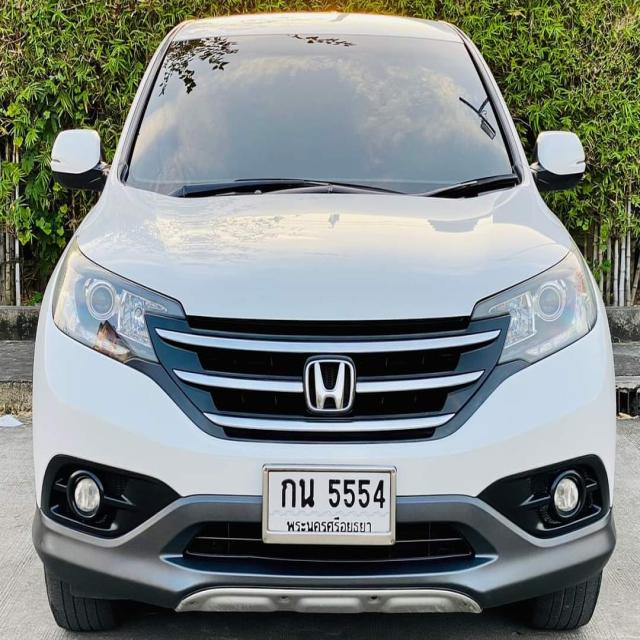license_plate: (261, 459, 398, 549)
